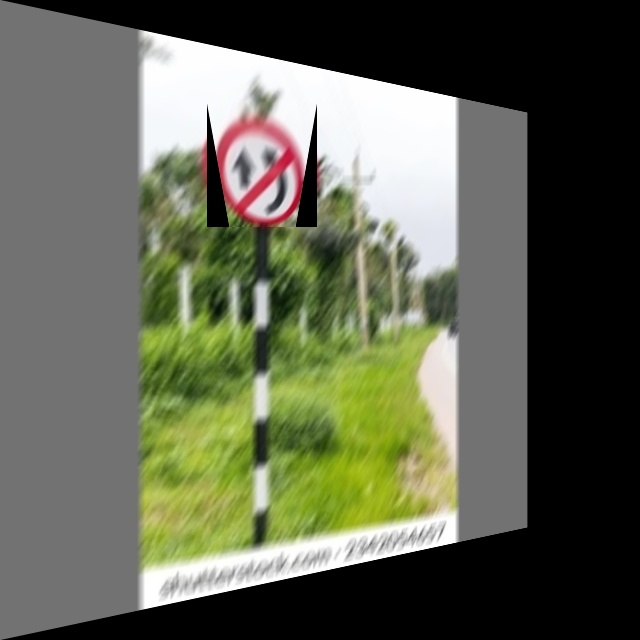Overtaking_Prohibited: (207, 103, 317, 227)
